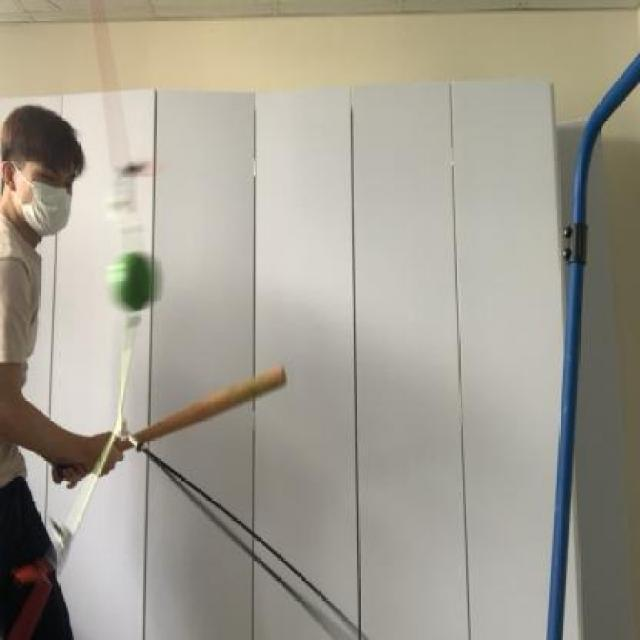baseball: (108, 241, 164, 317)
